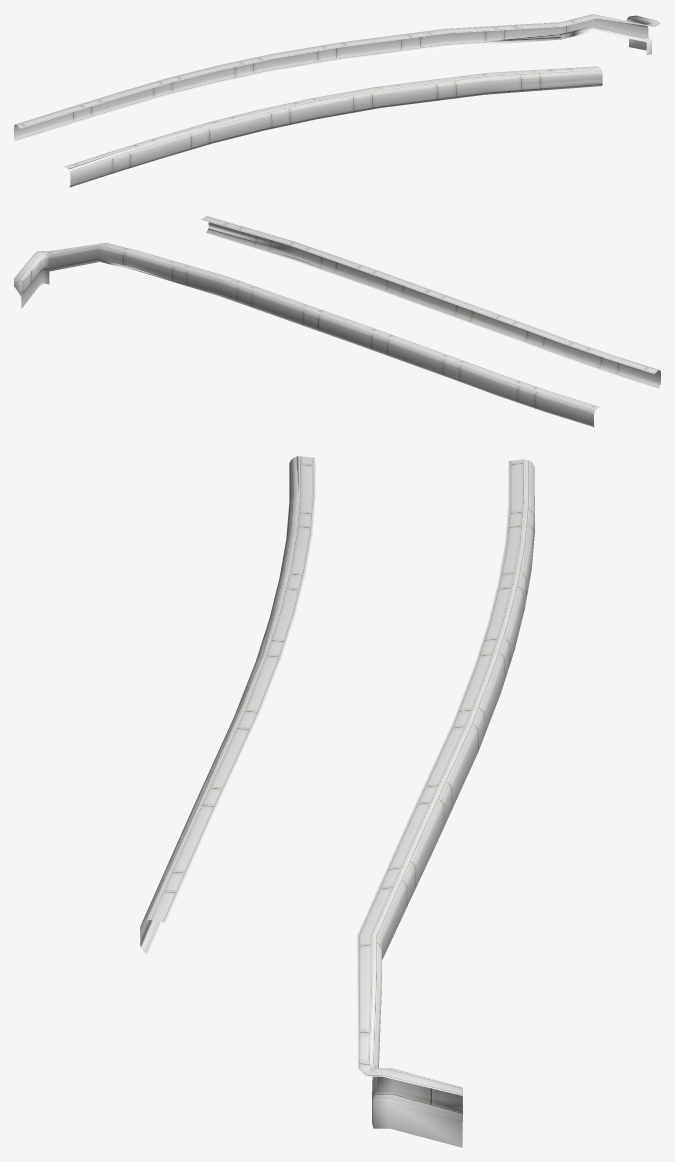
File: STA20_BridgeCurveD02.FBX
3 renders of one model, top to bottom at view 1: azimuth 30°, elevation 25°; view 2: azimuth 150°, elevation 25°; view 3: azimuth 270°, elevation 25°, orthographic. The views are drawn at different scales.
Visible parts, largest first — view 1: STA20_BridgeCurveD02; view 2: STA20_BridgeCurveD02; view 3: STA20_BridgeCurveD02.
Part boxes in pixels (bbox=[...]): STA20_BridgeCurveD02: bbox=[14, 14, 660, 187]; STA20_BridgeCurveD02: bbox=[14, 216, 660, 427]; STA20_BridgeCurveD02: bbox=[140, 456, 534, 1147].
Bounding box in the file's own units: 39.84 × 4.59 × 11.29.
